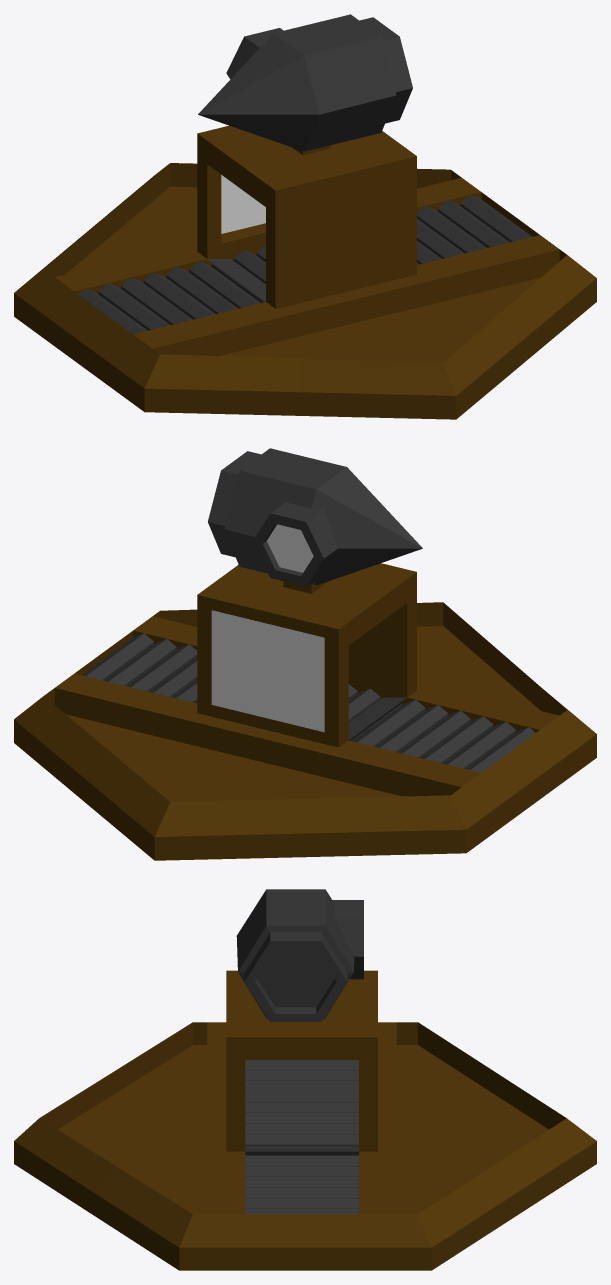
The model's file is cockpitFactory.fbx.
3 views of the same model, one above another, from view 1: azimuth 30°, elevation 25°; view 2: azimuth 150°, elevation 25°; view 3: azimuth 270°, elevation 25° (orthographic). The views are drawn at different scales.
Visible parts, largest first — view 1: Convoyer Belt Cockpit Factory, Cockpit Factory Base, Cockpit Main Part, CockPit Second Part; view 2: Convoyer Belt Cockpit Factory, Cockpit Factory Base, Cockpit Main Part, CockPit Second Part; view 3: Cockpit Factory Base, Convoyer Belt Cockpit Factory, Cockpit Main Part, CockPit Second Part.
Part boxes in pixels (x1,y1,x2,y2): Convoyer Belt Cockpit Factory: (55,125,559,355); Cockpit Factory Base: (14,163,596,419); Cockpit Main Part: (198,14,412,151); CockPit Second Part: (226,28,283,79); Convoyer Belt Cockpit Factory: (54,563,559,796); Cockpit Factory Base: (14,602,596,860); Cockpit Main Part: (208,448,422,585); CockPit Second Part: (252,502,337,586); Cockpit Factory Base: (14,1022,596,1270); Convoyer Belt Cockpit Factory: (207,970,396,1214); Cockpit Main Part: (236,889,354,1021); CockPit Second Part: (332,900,363,979).
Bounding box in the file's own units: 200 × 116 × 231.
